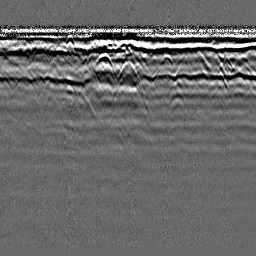cavity: (116, 59, 141, 83)
